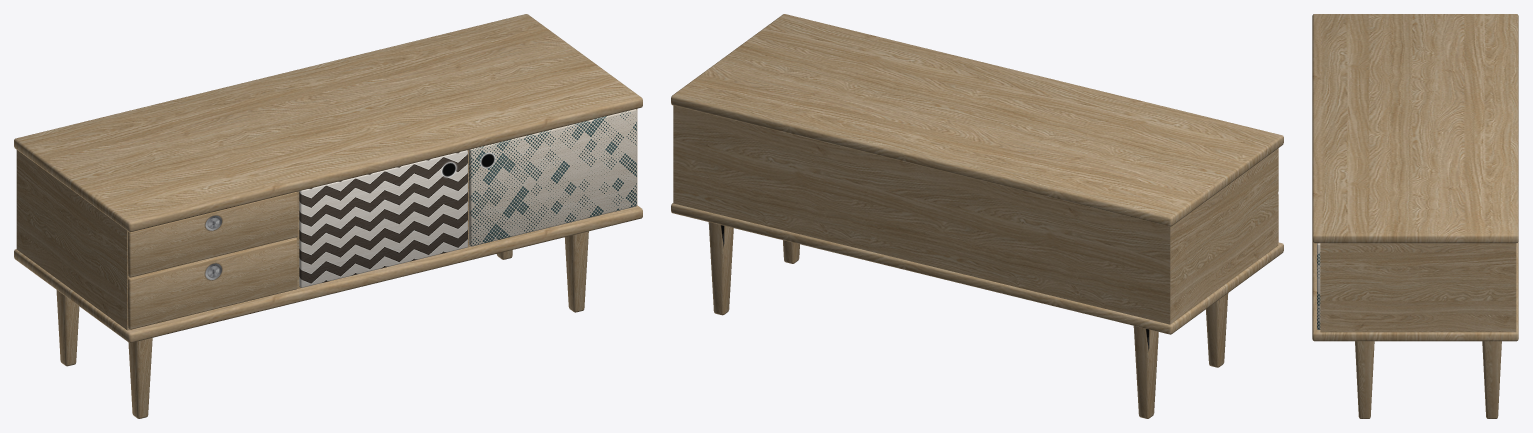
File: small cabinet.FBX
The picture shows the model from 3 angles, left to right: view 1: azimuth 30°, elevation 25°; view 2: azimuth 150°, elevation 25°; view 3: azimuth 270°, elevation 25°; orthographic projection. The views are drawn at different scales.
Visible parts, largest first — view 1: small cabinet; view 2: small cabinet; view 3: small cabinet.
Boxes of the visible parts, bbox=[...] form: small cabinet: bbox=[14, 14, 642, 418]; small cabinet: bbox=[671, 14, 1283, 418]; small cabinet: bbox=[1312, 14, 1518, 418].
Bounding box in the file's own units: 65.2 × 25.59 × 27.2.
